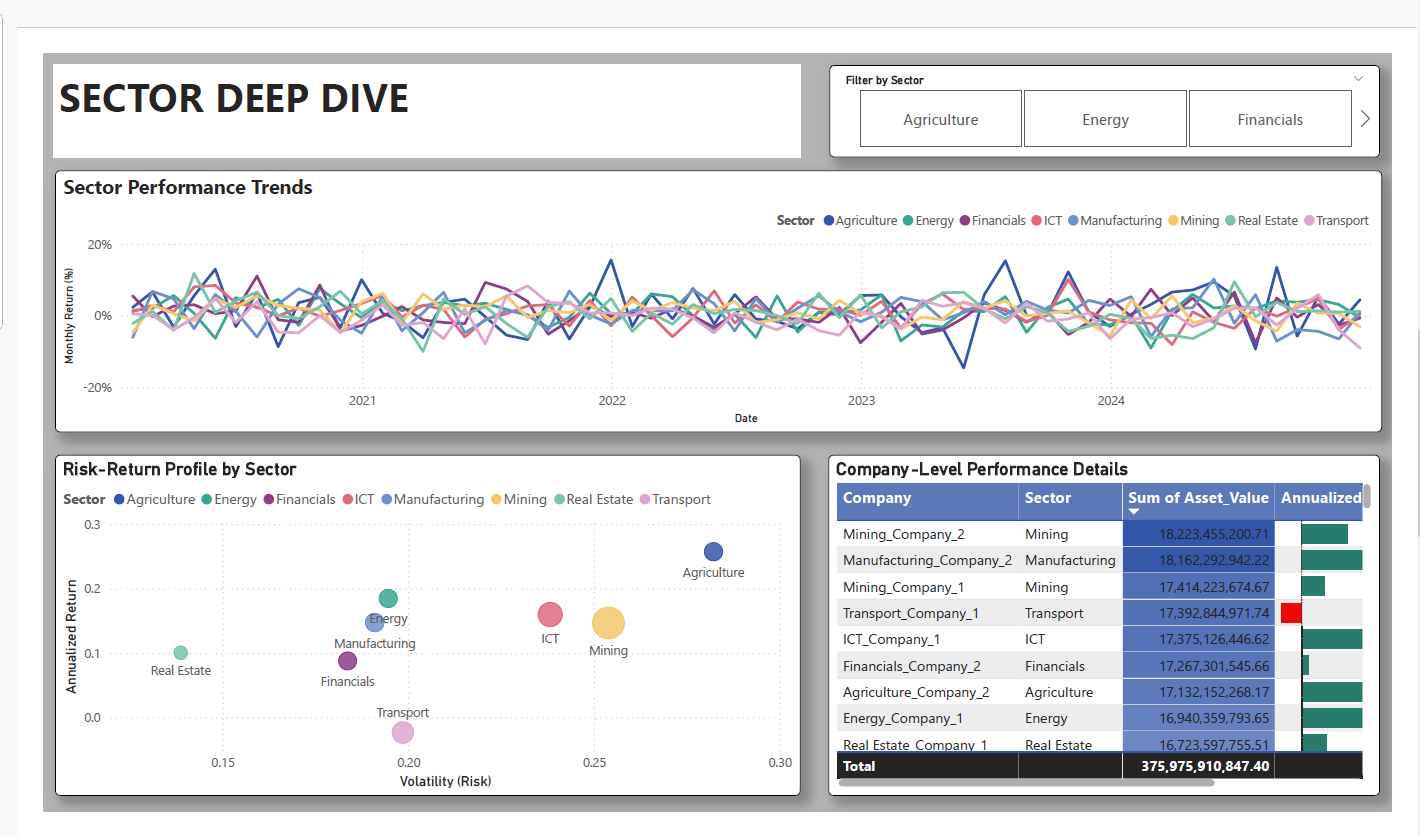

Layout of this report page (visuals, bound fields, positions):
{"tool":"powerbi","page":{"name":"SECTOR DEEP DIVE","canvas":[1280,720],"ordinal":2},"visuals":[{"type":"slicer","fields":{"Values":["powerbi_dim_sectors.Sector"]},"box":[746.5,11,522.8,87.8],"z":0},{"type":"lineChart","title":"Sector Performance Trends","fields":{"Category":["powerbi_fact_performance.Date.Variation.Date Hierarchy.Year"],"Y":["powerbi_fact_performance.Total Return"],"Series":["powerbi_fact_performance.Sector"]},"box":[11,111.1,1259.7,248.4],"z":1000},{"type":"scatterChart","title":"Risk-Return Profile by Sector","fields":{"X":["Attribution Components.Sector Volatility"],"Y":["Attribution Components.Sector Annualized Return"],"Category":["powerbi_dim_sectors.Sector"],"Series":["powerbi_dim_sectors.Sector"],"Size":["Sum(powerbi_fact_performance.Asset_Value)"]},"box":[11,381.5,708.1,323.8],"z":2000},{"type":"textbox","box":[9.6,11,709.4,87.8],"z":3000},{"type":"tableEx","title":"Company-Level Performance Details","fields":{"Values":["powerbi_dim_companies.Company","powerbi_dim_sectors.Sector","Sum(powerbi_fact_performance.Asset_Value)","powerbi_fact_performance.Annualized Return","Attribution Components.Monthly Volatility"]},"box":[745.1,381.5,524.2,323.8],"z":4000}]}

Visuals, with their boxes in screenshot pixels (x1, y1, x2, y2):
slicer - powerbi_dim_sectors.Sector: select_region(828, 60, 1380, 152)
"Sector Performance Trends" lineChart: select_region(52, 165, 1382, 427)
"Risk-Return Profile by Sector" scatterChart: select_region(52, 451, 800, 792)
textbox: select_region(51, 60, 799, 152)
"Company-Level Performance Details" tableEx: select_region(827, 451, 1380, 792)
